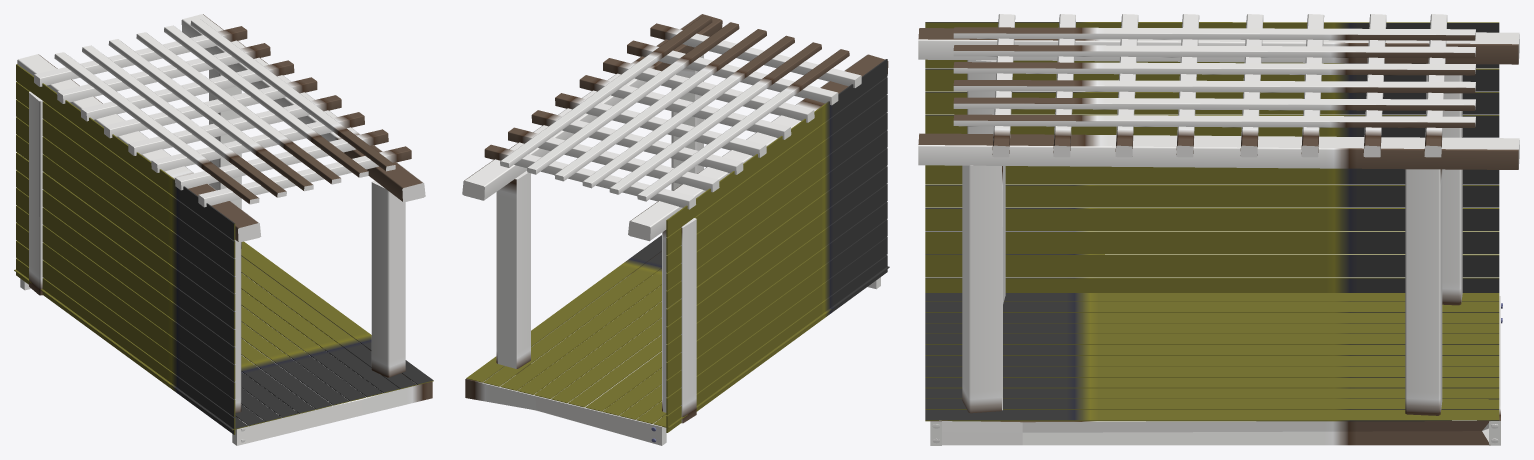
Rendered from Patio_Gazeebo.fbx.
The picture shows the model from 3 angles, left to right: view 1: azimuth 30°, elevation 25°; view 2: azimuth 150°, elevation 25°; view 3: azimuth 270°, elevation 25°; orthographic projection. The views are drawn at different scales.
Parts seen in each view (by area): view 1: Patio_Gazeebo; view 2: Patio_Gazeebo; view 3: Patio_Gazeebo.
Part boxes in pixels (x1,y1,x2,y2): Patio_Gazeebo: (14, 14, 433, 445); Patio_Gazeebo: (462, 14, 889, 445); Patio_Gazeebo: (918, 14, 1519, 445).
Size of the model in its own units: 264 by 286 by 507.
